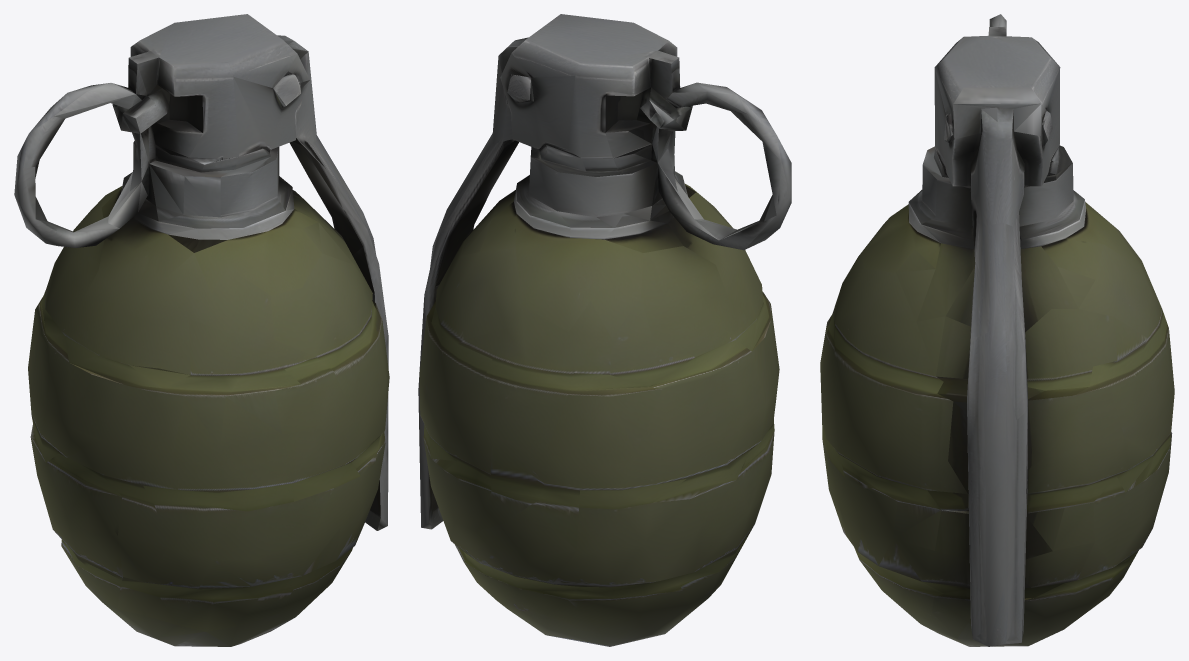
The model's file is Asset_03_LOD2.fbx.
3 views of the same model, side by side, from view 1: azimuth 30°, elevation 25°; view 2: azimuth 150°, elevation 25°; view 3: azimuth 270°, elevation 25° (orthographic). The views are drawn at different scales.
Parts seen in each view (by area): view 1: Asset_03_LOD2; view 2: Asset_03_LOD2; view 3: Asset_03_LOD2.
Boxes of the visible parts, bbox=[...] form: Asset_03_LOD2: bbox=[14, 14, 389, 646]; Asset_03_LOD2: bbox=[418, 14, 791, 646]; Asset_03_LOD2: bbox=[820, 14, 1174, 646].
Size of the model in its own units: 0.0768 by 0.115 by 0.0662.
1 material, 1 textured.
